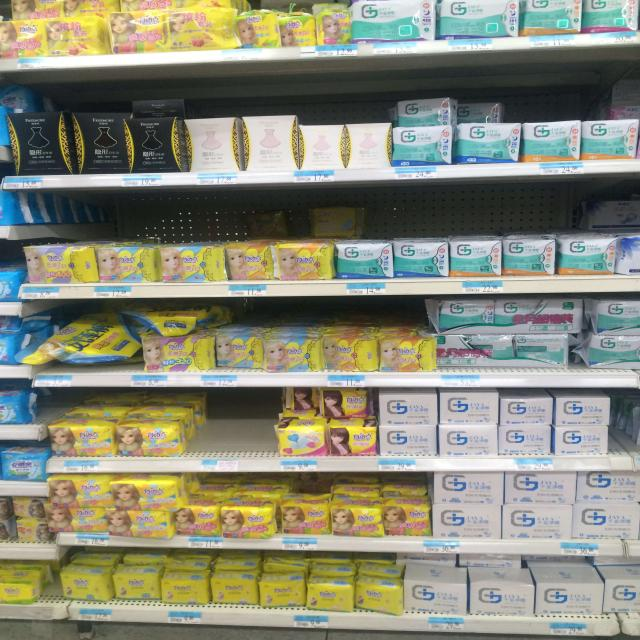empty: (186, 390, 283, 461), (605, 396, 640, 454)
